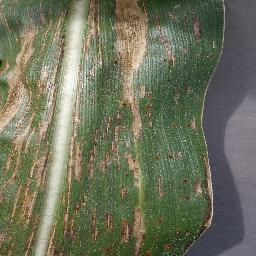Gray_Leaf_Spot: (0, 0, 160, 256), (145, 0, 205, 68), (186, 151, 224, 249), (202, 66, 226, 119), (214, 0, 236, 57), (168, 84, 192, 107), (162, 227, 181, 256), (163, 147, 188, 169), (181, 114, 201, 141), (161, 180, 181, 199)
